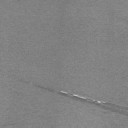finishing roll printing: (91, 99, 128, 116), (22, 80, 54, 93), (72, 94, 88, 100), (58, 89, 69, 94)
